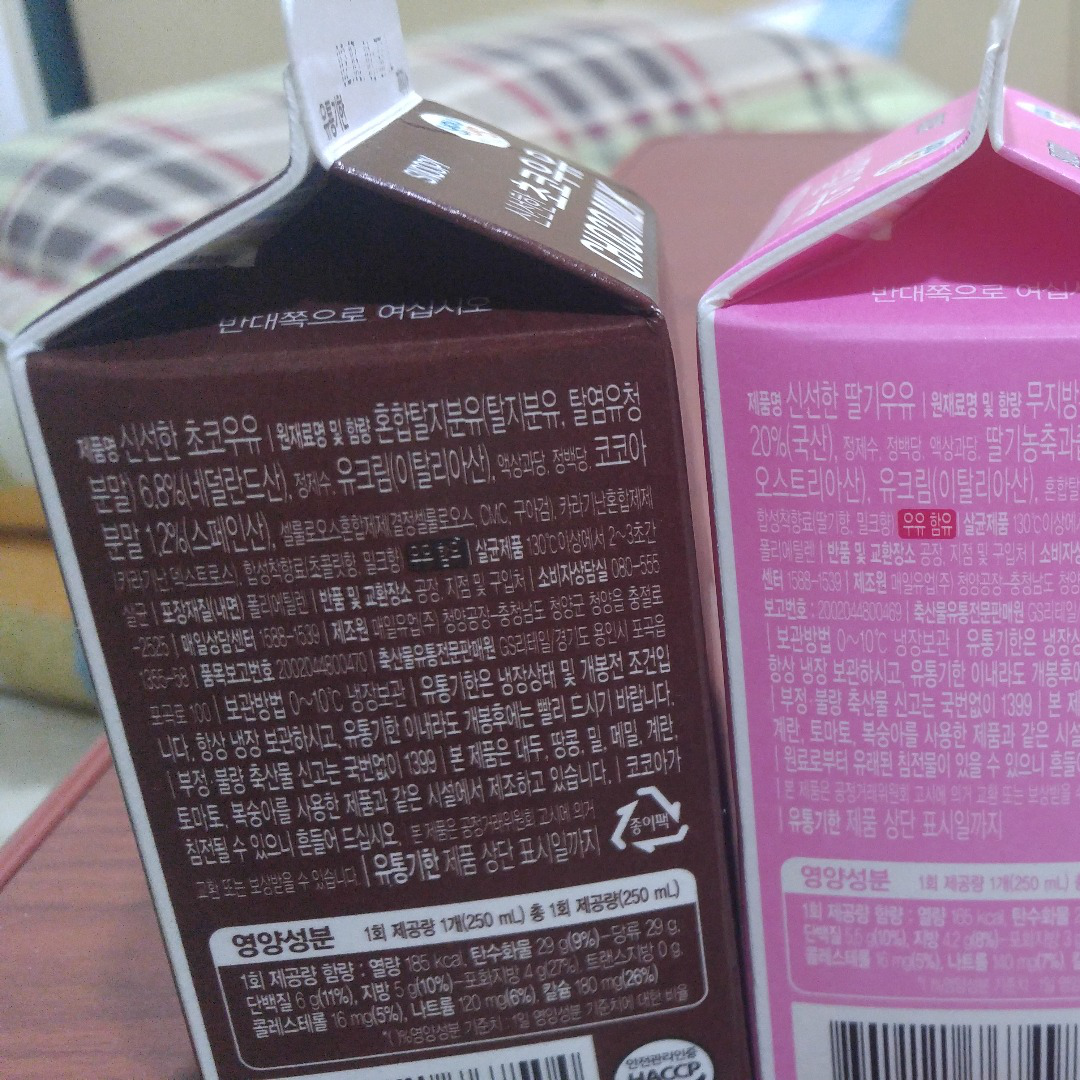milk: (10, 1, 760, 1080), (695, 3, 1078, 1080)
